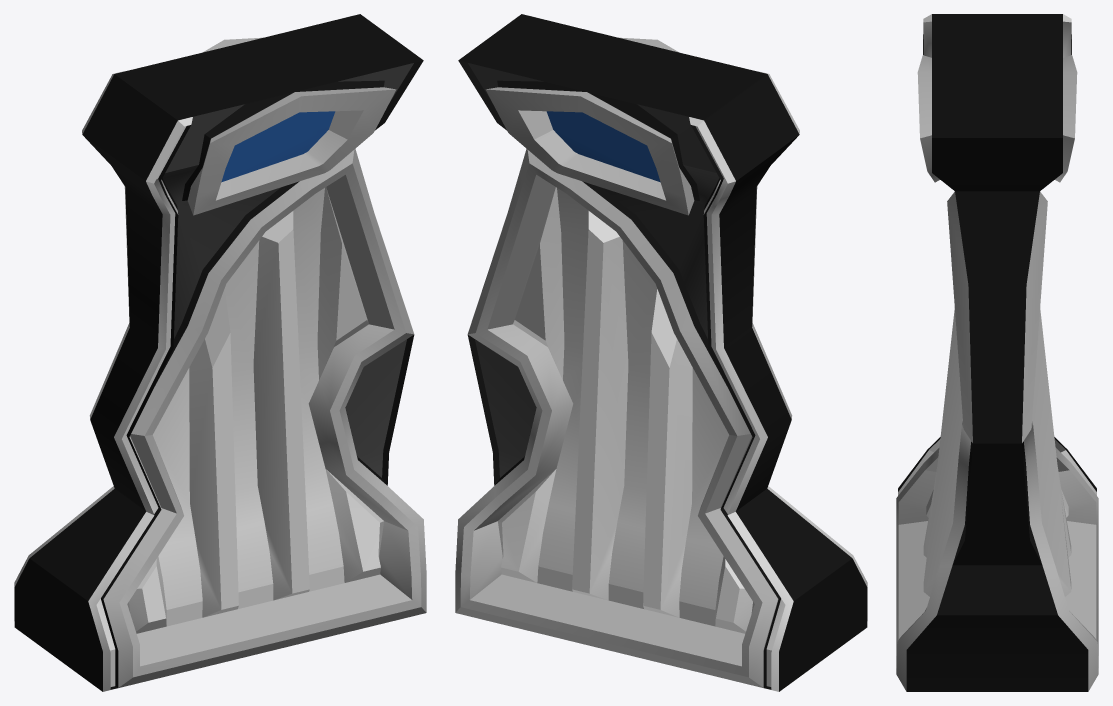
Rendered from AirlockDoor_Right.FBX.
3 renders of one model, left to right at view 1: azimuth 30°, elevation 25°; view 2: azimuth 150°, elevation 25°; view 3: azimuth 270°, elevation 25°, orthographic. The views are drawn at different scales.
Visible parts, largest first — view 1: Door_Right; view 2: Door_Right; view 3: Door_Right.
Boxes of the visible parts, <box> form: Door_Right: <box>14,14,426,691</box>; Door_Right: <box>455,14,867,691</box>; Door_Right: <box>896,14,1098,691</box>.
Bounding box in the file's own units: 194 × 292 × 95.62.
